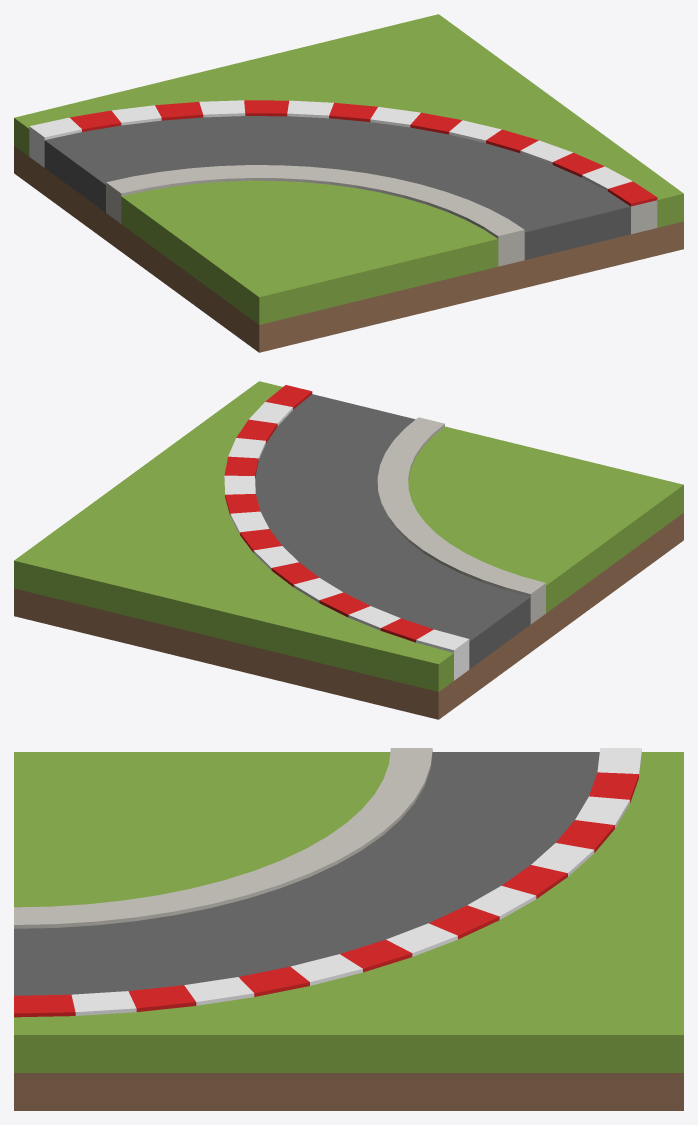
Rendered from track-corner-large.obj.
The picture shows the model from 3 angles, top to bottom: view 1: azimuth 30°, elevation 25°; view 2: azimuth 150°, elevation 25°; view 3: azimuth 270°, elevation 25°; orthographic projection. The views are drawn at different scales.
Parts seen in each view (by area): view 1: track-corner-large_Cube.061; view 2: track-corner-large_Cube.061; view 3: track-corner-large_Cube.061.
Boxes of the visible parts, x1,y1,x2,y2 form: track-corner-large_Cube.061: (14, 14, 683, 352); track-corner-large_Cube.061: (14, 381, 683, 719); track-corner-large_Cube.061: (14, 748, 683, 1110).
Size of the model in its own units: 16 by 2.1 by 16.
Materials: 1 (1 with a texture image).
